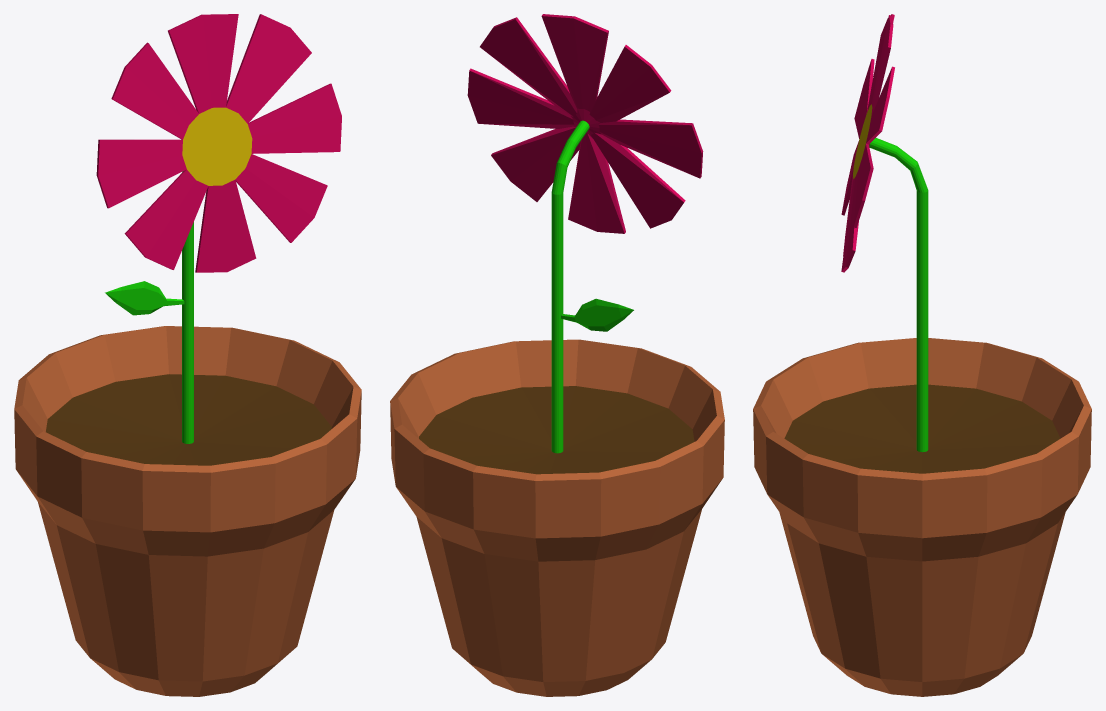
File: Flower.fbx
3 views of the same model, side by side, from view 1: azimuth 30°, elevation 25°; view 2: azimuth 150°, elevation 25°; view 3: azimuth 270°, elevation 25° (orthographic). The views are drawn at different scales.
Parts seen in each view (by area): view 1: Circle; view 2: Circle; view 3: Circle.
Boxes of the visible parts, box(x1,y1,x2,y2) form: Circle: box(14, 14, 361, 696); Circle: box(390, 14, 724, 696); Circle: box(753, 14, 1091, 696).
Bounding box in the file's own units: 388 × 806 × 388.
